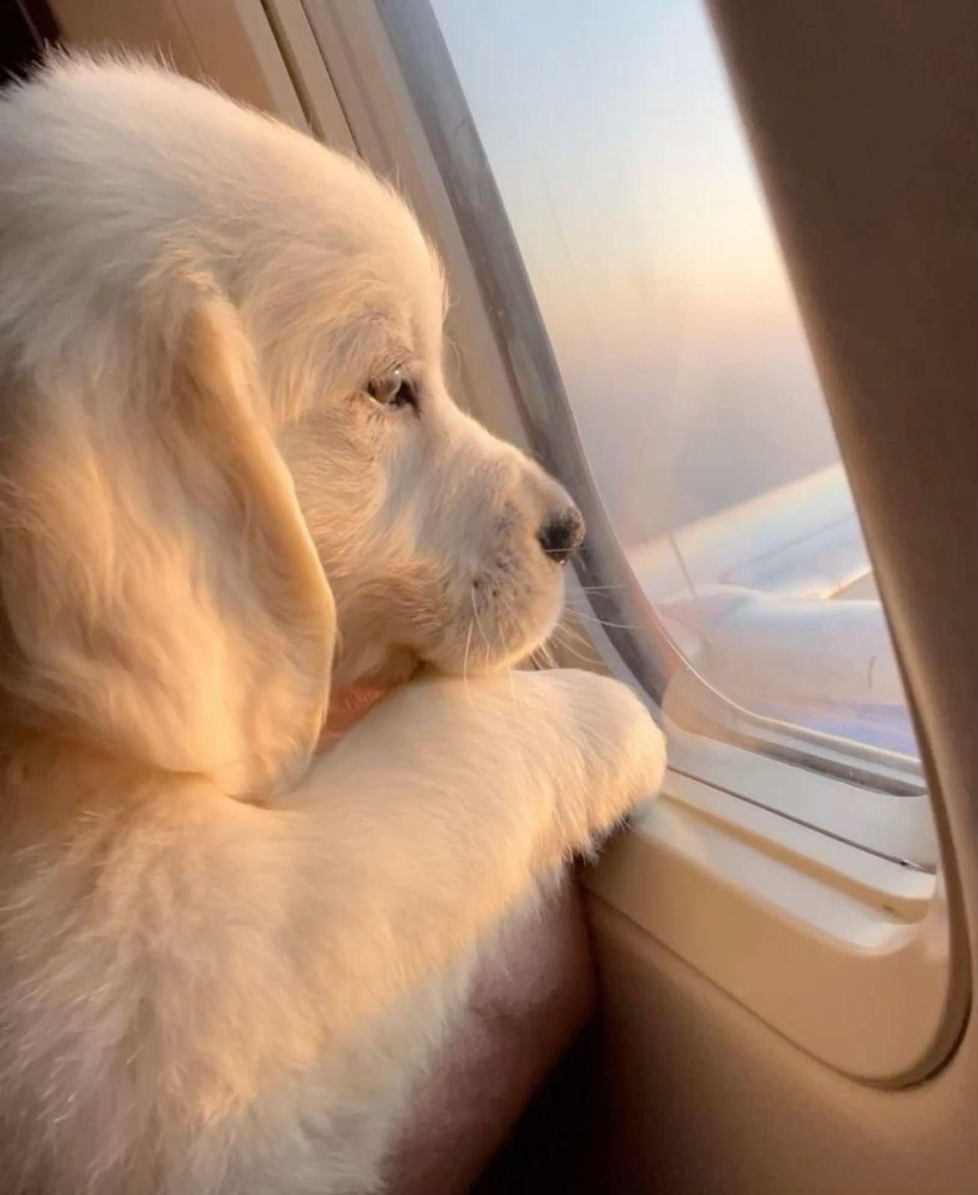puppy-dog: (0, 41, 668, 1195)
